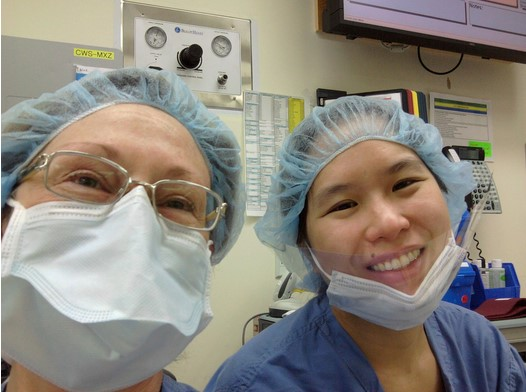face_with_mask: (8, 65, 248, 382), (267, 96, 496, 345)
